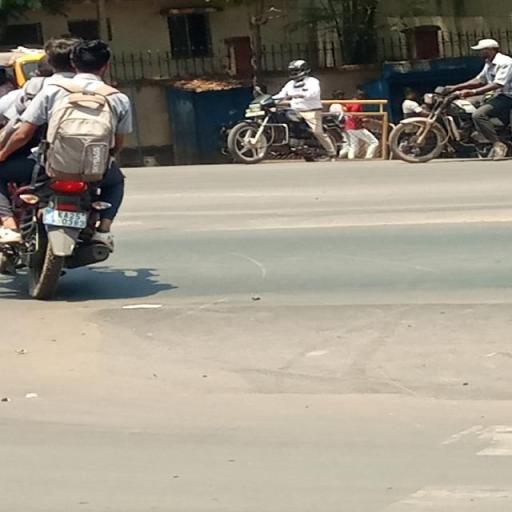tripple riding: (4, 36, 142, 180)
